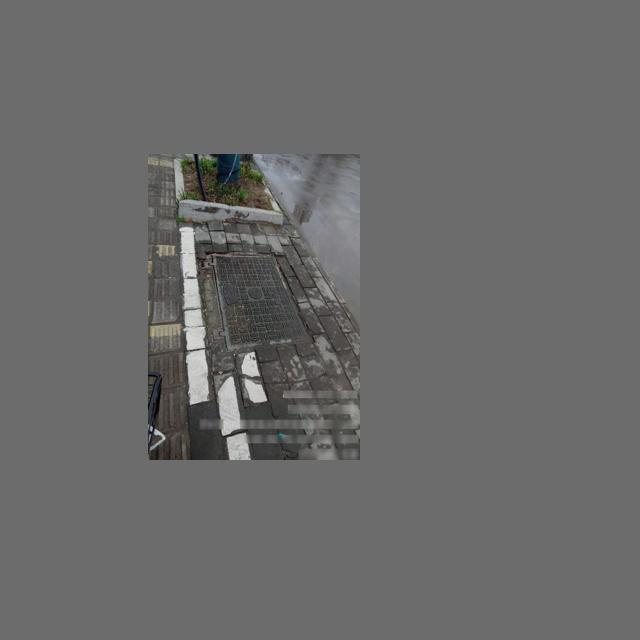good: (202, 253, 314, 352)
